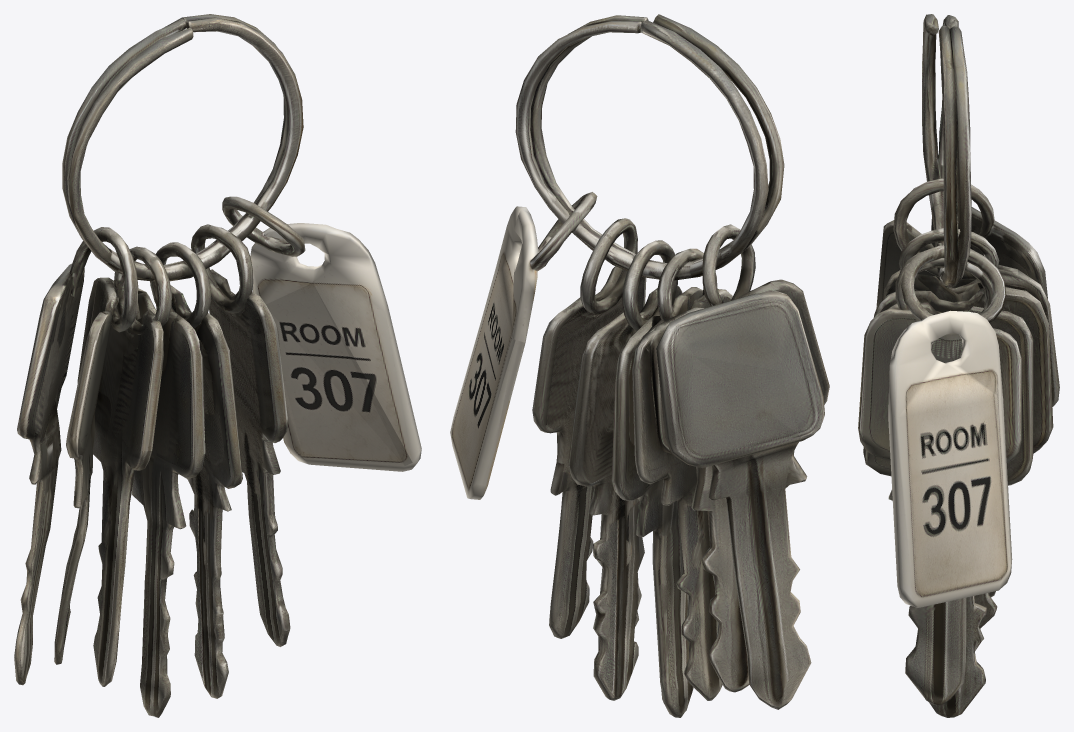
The model's file is key.fbx.
3 renders of one model, left to right at view 1: azimuth 30°, elevation 25°; view 2: azimuth 150°, elevation 25°; view 3: azimuth 270°, elevation 25°, orthographic.
Visible parts, largest first — view 1: mesh_node; view 2: mesh_node; view 3: mesh_node.
Part boxes in pixels (x1,y1,x2,y2): mesh_node: (14,14,421,717); mesh_node: (450,14,829,717); mesh_node: (858,14,1059,717).
Bounding box in the file's own units: 58.79 × 100 × 26.86.
1 material, 1 textured.
